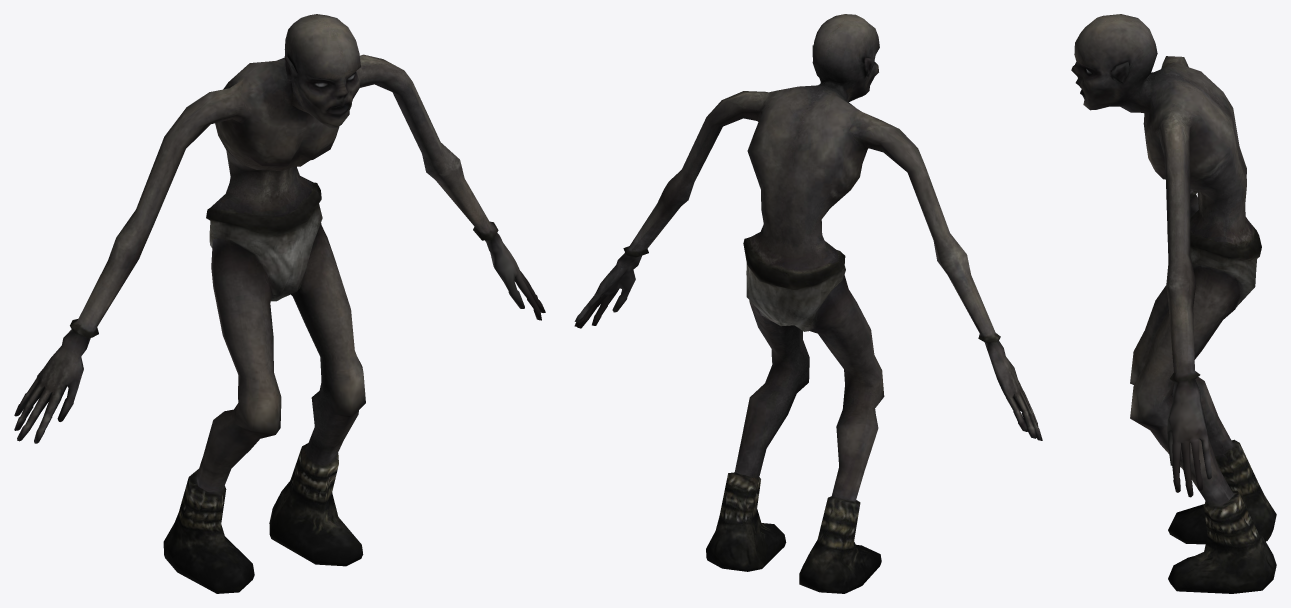
Rendered from creature-demon-mobile.glb.
The picture shows the model from 3 angles, left to right: view 1: azimuth 30°, elevation 25°; view 2: azimuth 150°, elevation 25°; view 3: azimuth 270°, elevation 25°; orthographic projection. The views are drawn at different scales.
Parts seen in each view (by area): view 1: creature-demon; view 2: creature-demon; view 3: creature-demon.
Part boxes in pixels (x1,y1,x2,y2): creature-demon: (14,14,545,593); creature-demon: (574,14,1042,593); creature-demon: (1071,14,1276,593).
Size of the model in its own units: 1.53 by 1.6 by 0.5519.
1 material, 1 textured.
